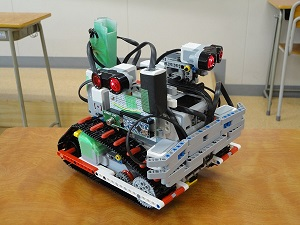Robot: (55, 15, 247, 212)
